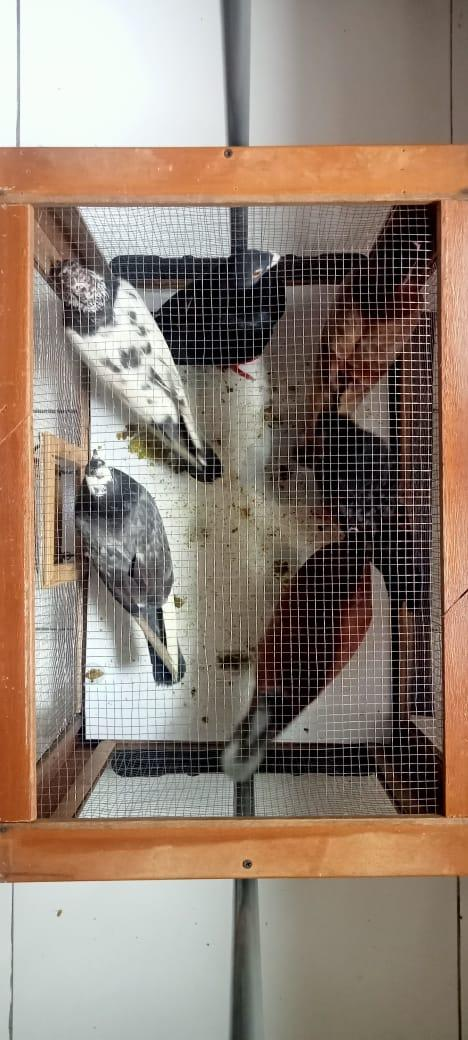Merpati: (220, 525, 373, 783), (51, 257, 222, 482), (293, 236, 428, 467), (74, 448, 187, 686), (317, 411, 425, 611), (154, 250, 292, 367)
